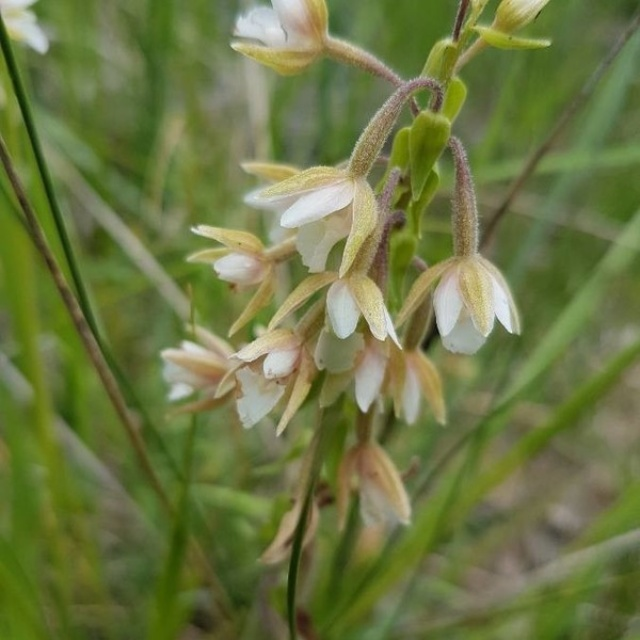obstacle: (131, 53, 541, 543)
